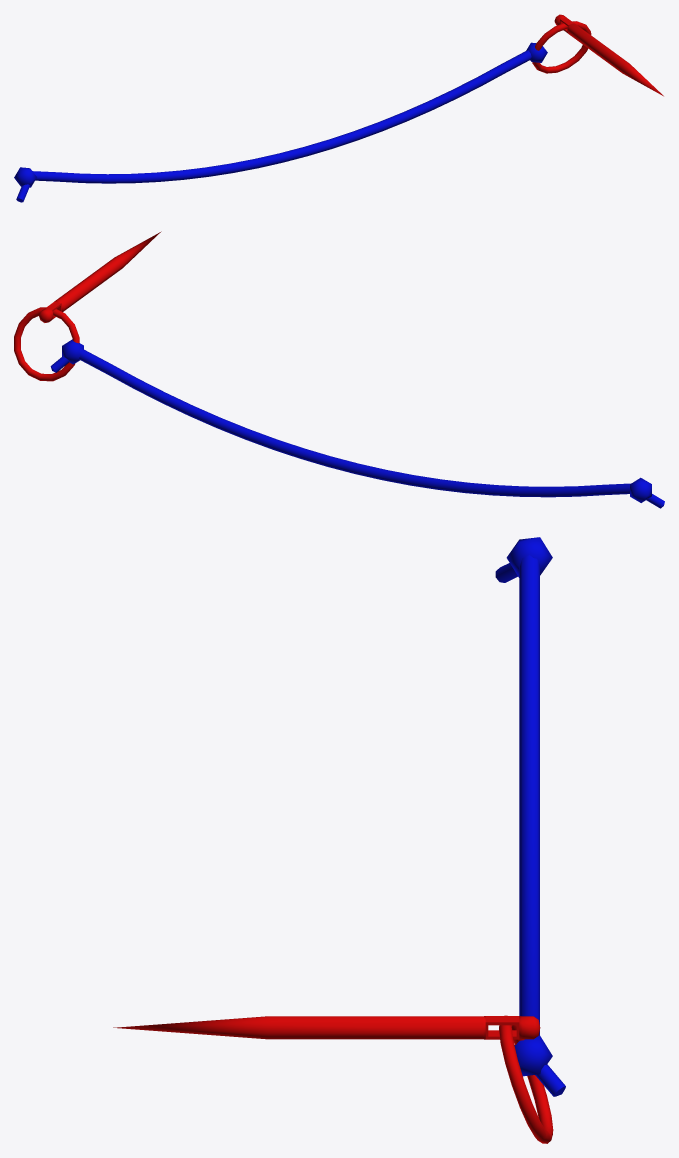
The model's file is Half_rope_continuous.FBX.
3 renders of one model, top to bottom at view 1: azimuth 30°, elevation 25°; view 2: azimuth 150°, elevation 25°; view 3: azimuth 270°, elevation 25°, orthographic. The views are drawn at different scales.
Parts seen in each view (by area): view 1: Half_rope_continuous; view 2: Half_rope_continuous; view 3: Half_rope_continuous.
Part boxes in pixels (x1,y1,x2,y2): Half_rope_continuous: (14, 14, 663, 202); Half_rope_continuous: (14, 231, 664, 508); Half_rope_continuous: (113, 537, 565, 1143).
Bounding box in the file's own units: 2.57 × 0.8708 × 0.3363.
